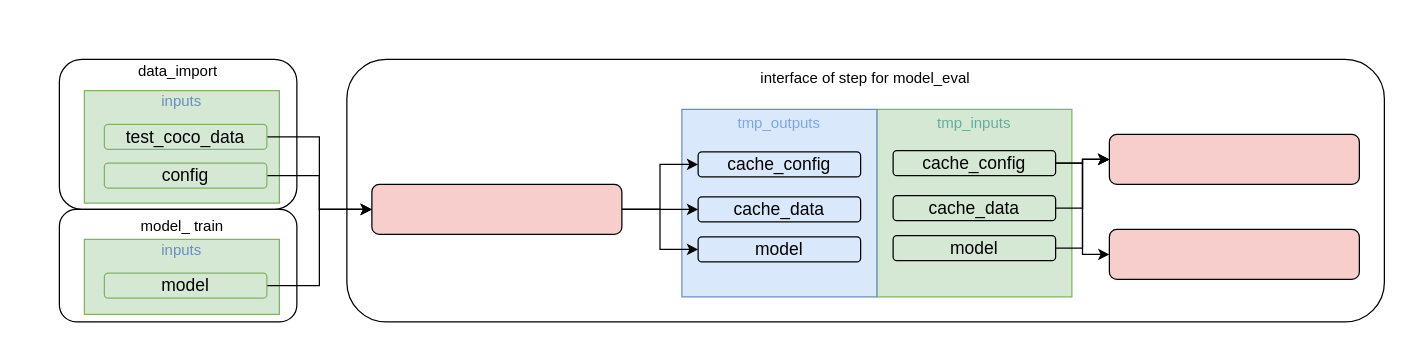
Image size: 1406x355. Some labels were removed from this diagram. Each missing label, with the box of its shape:
0_configure_eval.jpynb: (371, 183, 622, 234)
1_eval.jpynb: (1108, 133, 1359, 184)
2_compare_eval.jpynb: (1108, 228, 1359, 279)
